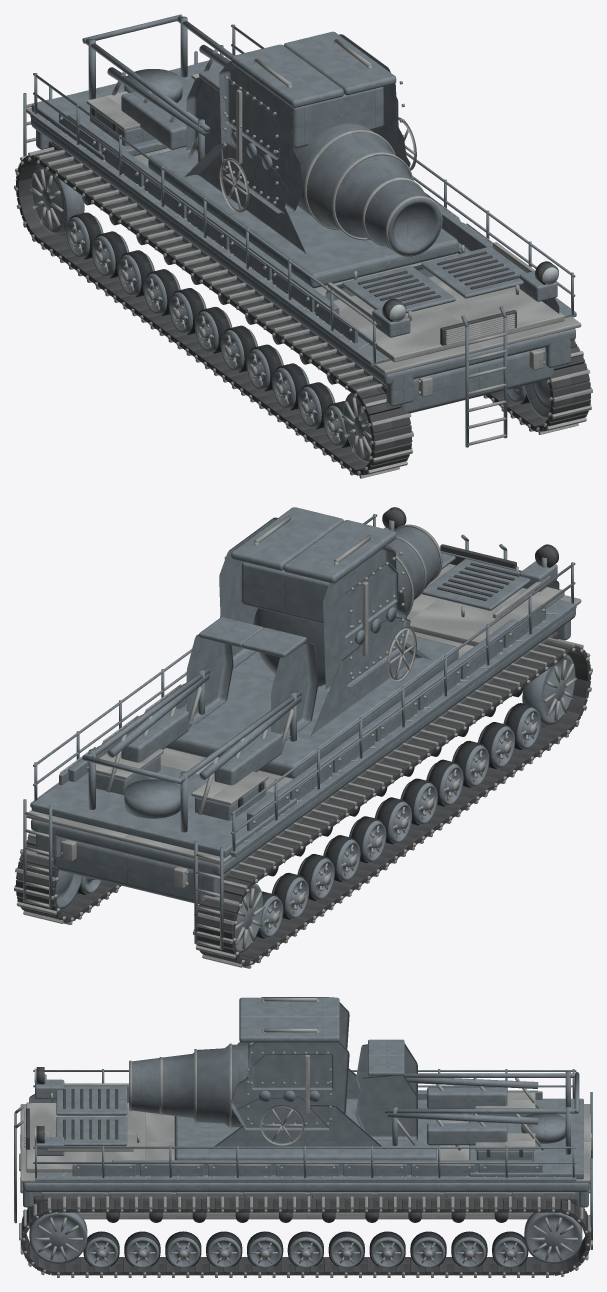
The model's file is tracked-mortar.glb.
The picture shows the model from 3 angles, top to bottom: view 1: azimuth 30°, elevation 25°; view 2: azimuth 150°, elevation 25°; view 3: azimuth 270°, elevation 25°; orthographic projection. The views are drawn at different scales.
Visible parts, largest first — view 1: cradle-graphite-painted-steel-batch, running-gear-panel-shadow-batch, chassis-graphite-painted-steel-batch, platform-graphite-painted-steel-batch, running-gear-cast-edge-steel-batch, carriage-graphite-painted-steel-batch, barrel-tube-exterior-batch, running-gear-graphite-painted-steel-batch, engine-cast-edge-steel-batch, mechanisms-graphite-painted-steel-batch, engine-graphite-painted-steel-batch, running-gear-dark-running-bands-batch (+6 smaller); view 2: platform-graphite-painted-steel-batch, cradle-graphite-painted-steel-batch, running-gear-panel-shadow-batch, chassis-graphite-painted-steel-batch, mechanisms-graphite-painted-steel-batch, carriage-graphite-painted-steel-batch, running-gear-cast-edge-steel-batch, running-gear-graphite-painted-steel-batch, running-gear-dark-running-bands-batch, chassis-cast-edge-steel-batch, engine-cast-edge-steel-batch, barrel-tube-exterior-batch (+6 smaller); view 3: running-gear-panel-shadow-batch, chassis-graphite-painted-steel-batch, mechanisms-graphite-painted-steel-batch, platform-graphite-painted-steel-batch, cradle-graphite-painted-steel-batch, running-gear-graphite-painted-steel-batch, carriage-graphite-painted-steel-batch, chassis-cast-edge-steel-batch, barrel-tube-exterior-batch, running-gear-cast-edge-steel-batch, engine-graphite-painted-steel-batch, engine-cast-edge-steel-batch (+7 smaller).
Part boxes in pixels (<box>): cradle-graphite-painted-steel-batch: <box>219,31,410,213</box>; running-gear-panel-shadow-batch: <box>15,150,590,475</box>; chassis-graphite-painted-steel-batch: <box>31,112,575,413</box>; platform-graphite-painted-steel-batch: <box>23,24,576,366</box>; running-gear-cast-edge-steel-batch: <box>14,147,592,478</box>; carriage-graphite-painted-steel-batch: <box>148,143,458,288</box>; barrel-tube-exterior-batch: <box>293,123,441,255</box>; running-gear-graphite-painted-steel-batch: <box>31,164,550,462</box>; engine-cast-edge-steel-batch: <box>327,242,564,445</box>; mechanisms-graphite-painted-steel-batch: <box>82,14,233,162</box>; engine-graphite-painted-steel-batch: <box>325,246,559,447</box>; running-gear-dark-running-bands-batch: <box>70,212,529,447</box>; platform-graphite-painted-steel-batch: <box>23,514,576,950</box>; cradle-graphite-painted-steel-batch: <box>219,507,410,693</box>; running-gear-panel-shadow-batch: <box>16,641,590,966</box>; chassis-graphite-painted-steel-batch: <box>31,604,575,904</box>; mechanisms-graphite-painted-steel-batch: <box>82,617,318,832</box>; carriage-graphite-painted-steel-batch: <box>166,634,458,778</box>; running-gear-cast-edge-steel-batch: <box>14,637,592,968</box>; running-gear-graphite-painted-steel-batch: <box>56,655,575,953</box>; running-gear-dark-running-bands-batch: <box>77,703,537,938</box>; chassis-cast-edge-steel-batch: <box>26,595,581,888</box>; engine-cast-edge-steel-batch: <box>406,564,564,646</box>; barrel-tube-exterior-batch: <box>253,526,439,686</box>; running-gear-panel-shadow-batch: <box>21,1198,590,1275</box>; chassis-graphite-painted-steel-batch: <box>23,1091,588,1208</box>; mechanisms-graphite-painted-steel-batch: <box>355,1039,579,1154</box>; platform-graphite-painted-steel-batch: <box>33,1069,592,1249</box>; cradle-graphite-painted-steel-batch: <box>231,997,349,1130</box>; running-gear-graphite-painted-steel-batch: <box>29,1212,582,1267</box>; carriage-graphite-painted-steel-batch: <box>174,1068,436,1160</box>; chassis-cast-edge-steel-batch: <box>20,1090,592,1219</box>; barrel-tube-exterior-batch: <box>129,1044,248,1127</box>; running-gear-cast-edge-steel-batch: <box>19,1153,592,1277</box>; engine-graphite-painted-steel-batch: <box>14,1074,128,1223</box>; engine-cast-edge-steel-batch: <box>14,1083,145,1220</box>.
Bounding box in the file's own units: 3.69 × 4.49 × 10.6.
Materials: 6 (6 with a texture image).
